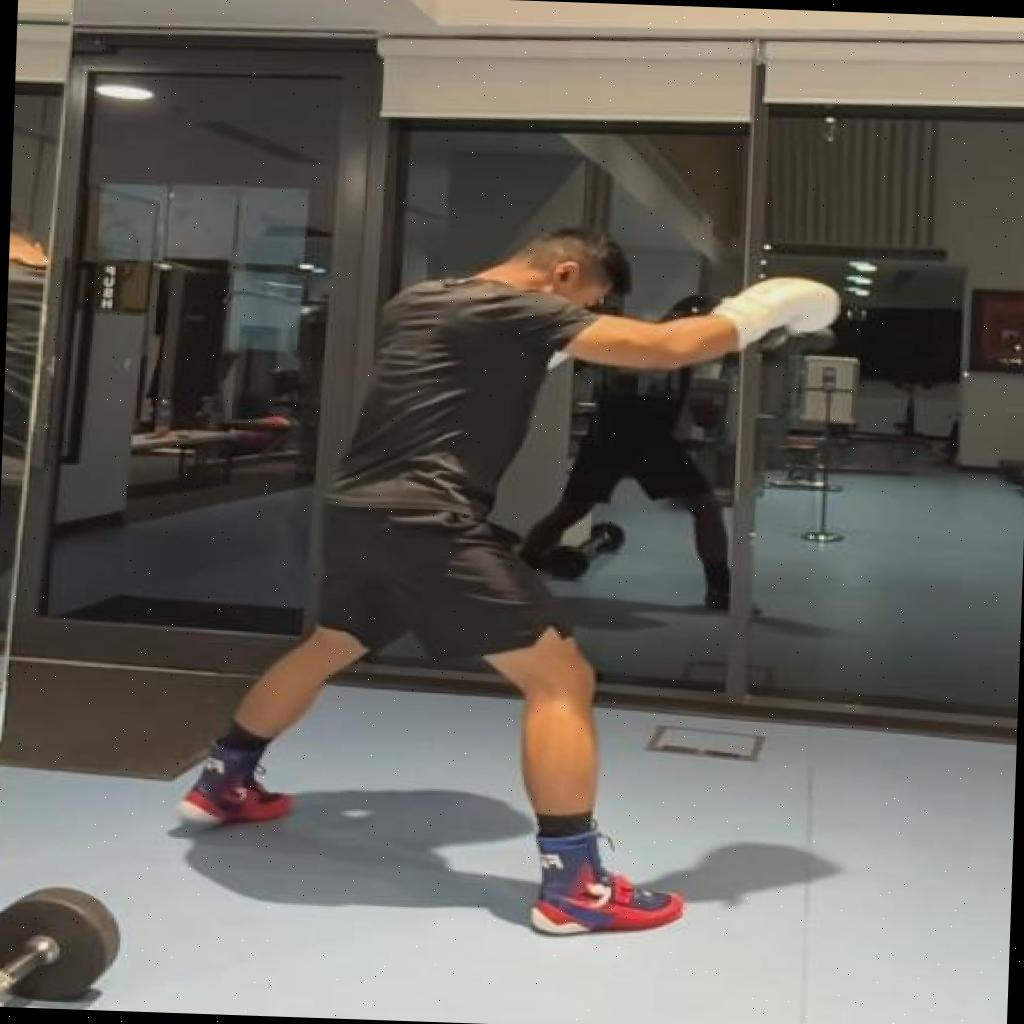jab: (172, 206, 846, 952)
